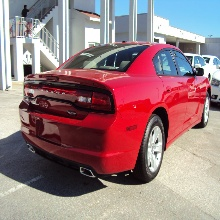no damage: (19, 42, 211, 186)
